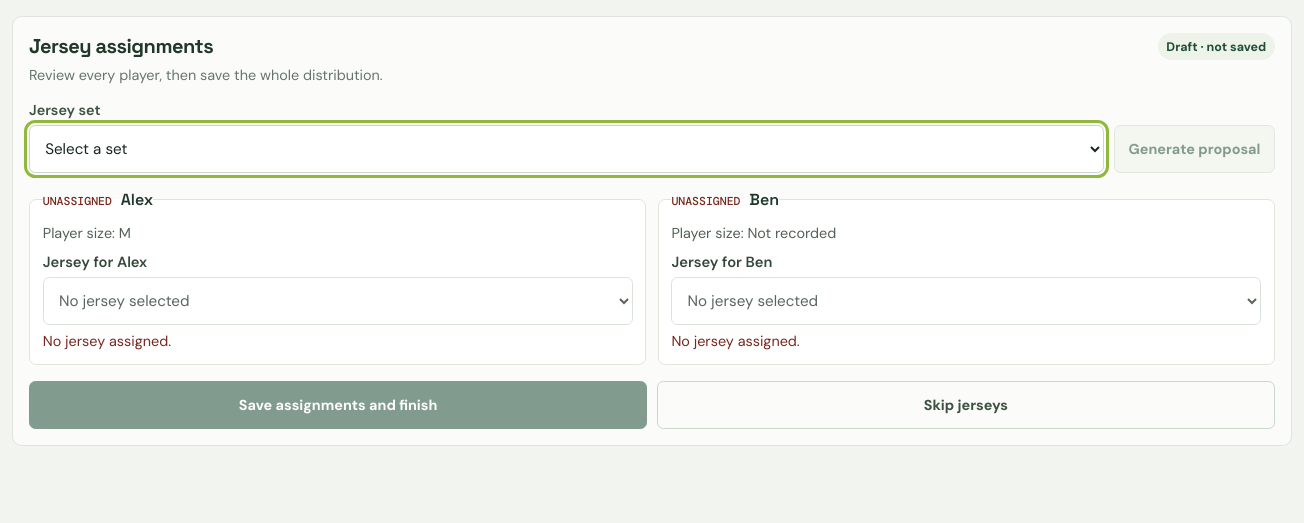
Test: AssignMatchJerseys feature integration › keeps a partial proposal unchanged through failed-save retry and stores durable empty rows
Expected: the text "Replace draft with a new proposal" is not shown
Select "Blue kit" in the dropdown with id "jersey-assignment-set": {"x": 566, "y": 149} [29,125,1104,173]
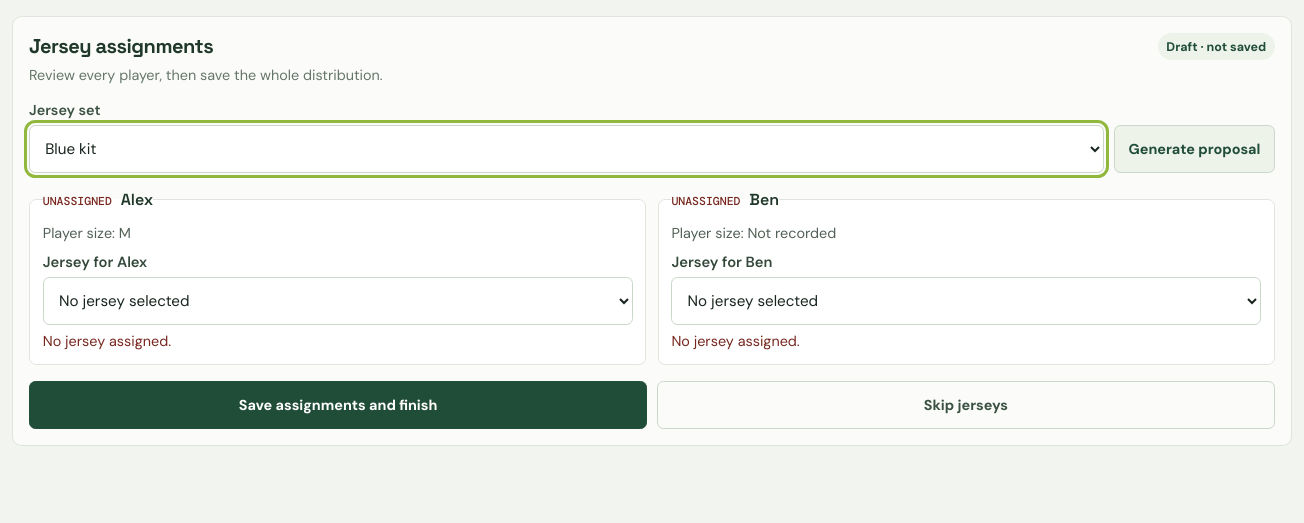
Click the button with class "generate-button": {"x": 1194, "y": 149} [1114,125,1275,173]
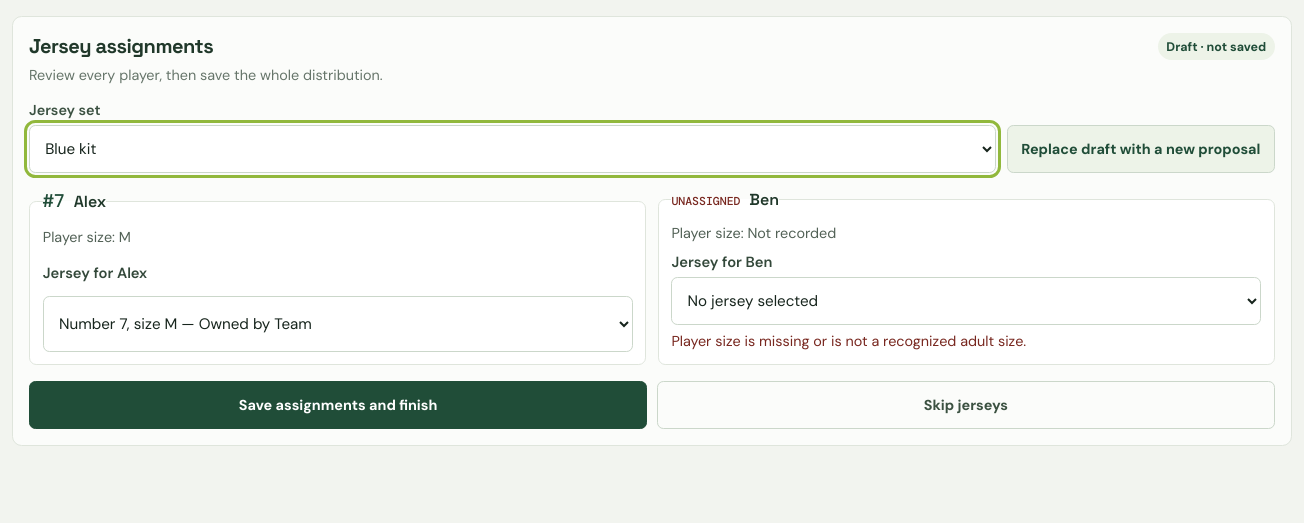
Expected: the element that starts with "Jersey assignments" shows "Player size is missing or is not a recognized adult size.", [671,332,1026,350]
Select "Number 8, size M — Owned by Team" in the dropdown with id "jersey-for-alex-id": {"x": 338, "y": 324} [43,296,633,352]
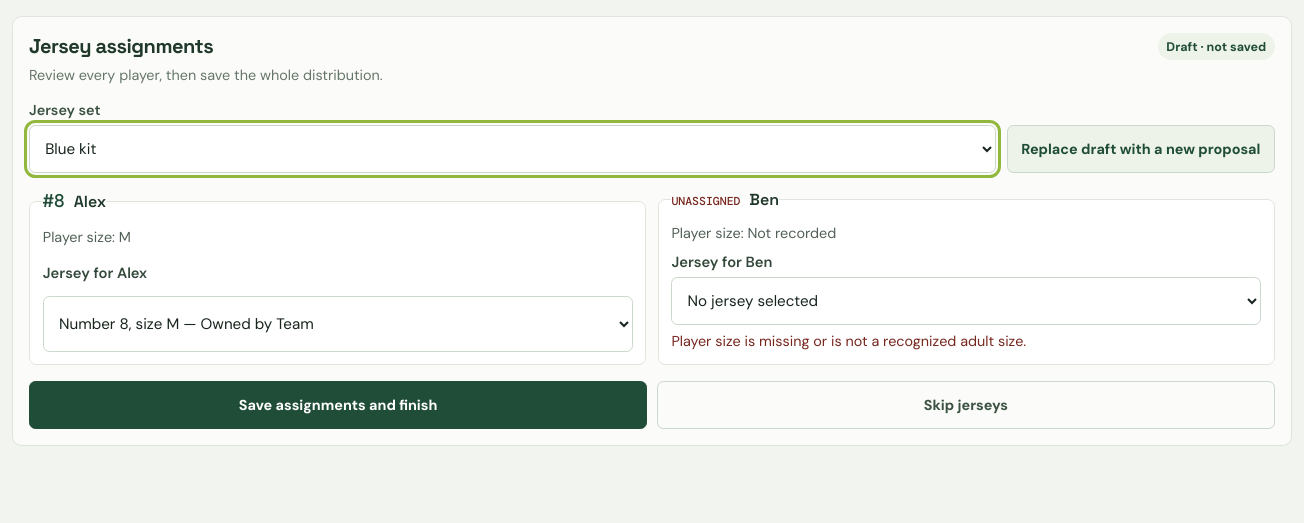
Click the button with class "accept-button": {"x": 338, "y": 406} [29,382,647,430]
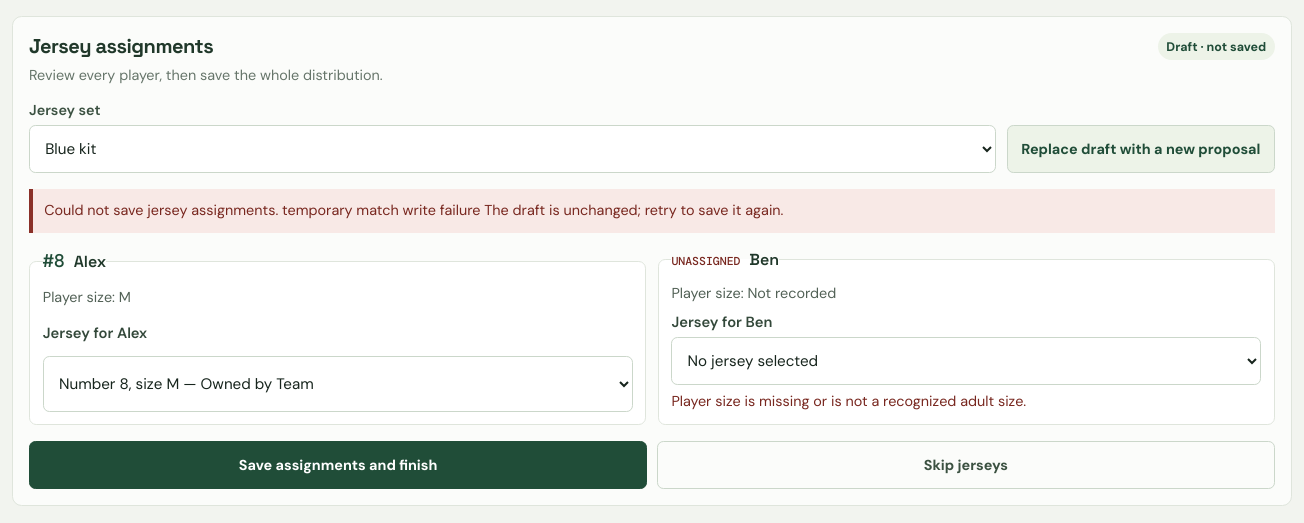
Expected: the element that starts with "Jersey assignments" shows "temporary match write failure", [44,201,784,219]
Click the button with class "accept-button": {"x": 338, "y": 465} [29,441,647,489]
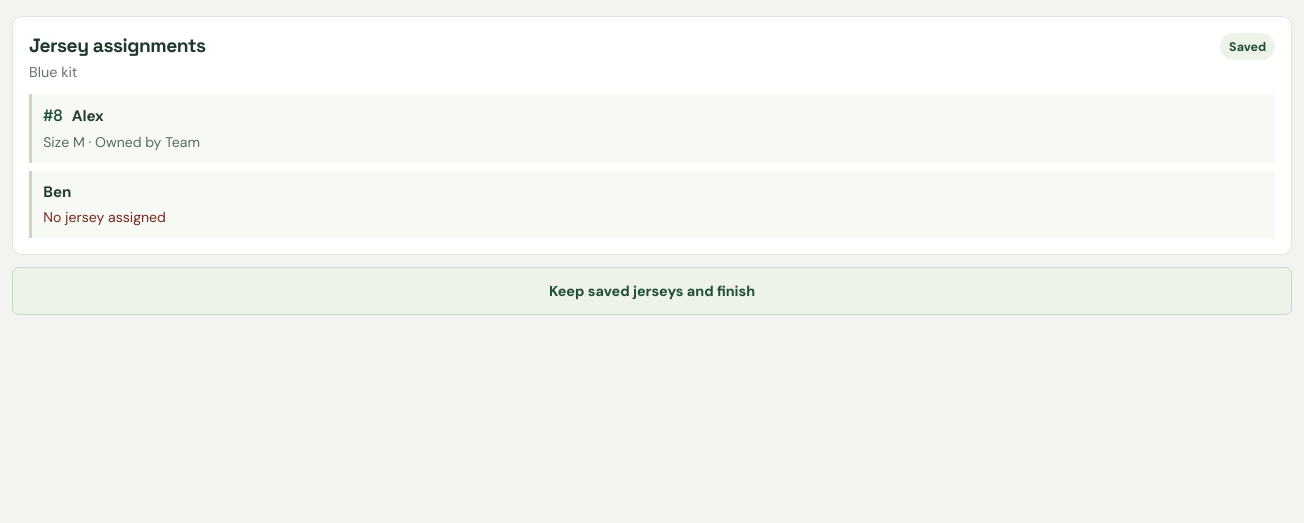
Expected: the element that starts with "Jersey assignments" shows "No jersey assigned", [43,208,166,226]
